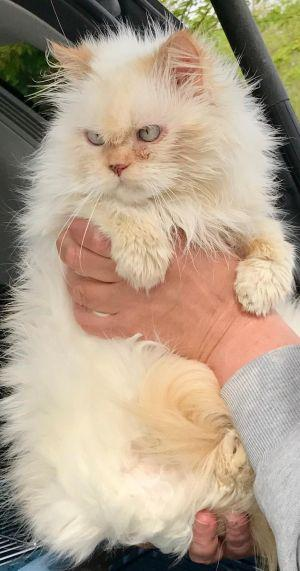persian: (41, 33, 225, 217)
